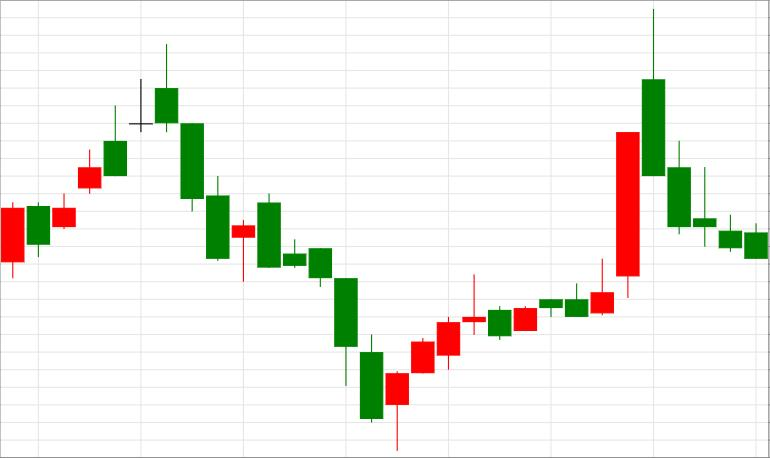shooting_star_fall: (1, 44, 178, 278)
three_black_crows_fall: (1, 44, 229, 278)
